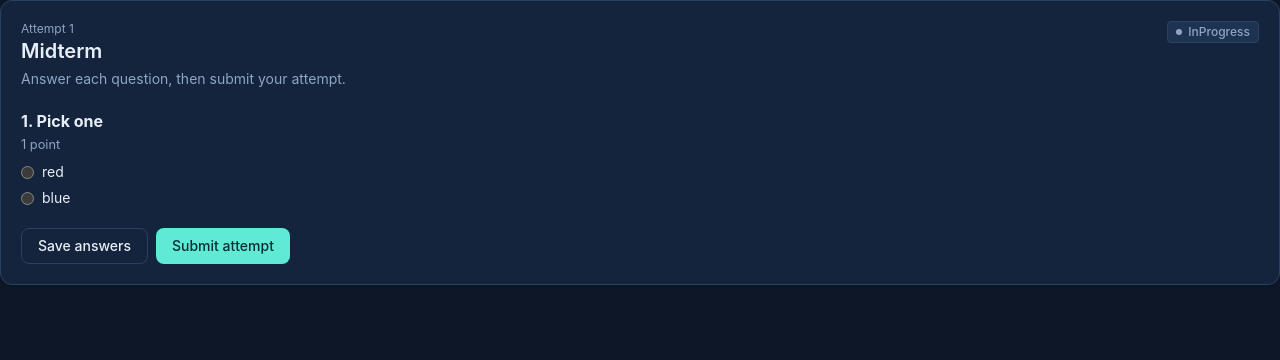
Test: AssessmentAttemptPanel › lets the learner save without submitting
This screenshot has width=1280, height=360.
Click the radio button labelled "red".
click(28, 172)  # box [21,166,34,179]
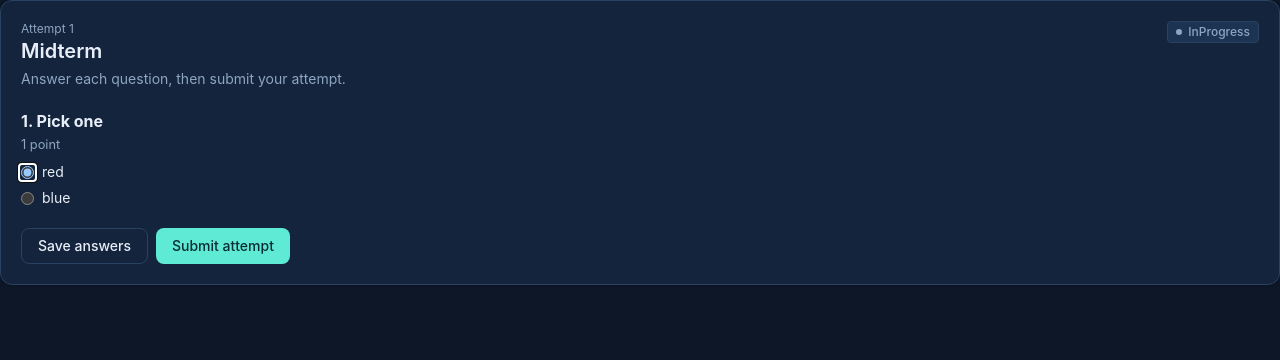
Click the button "Save answers".
click(84, 246)  # box [21,228,148,264]
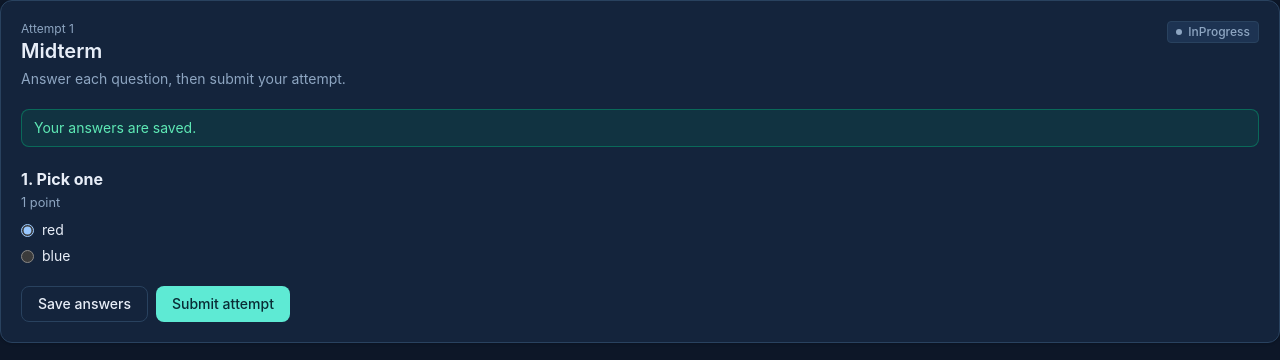
Expected: the text "Your answers are saved." is shown, [21,109,1259,147]
